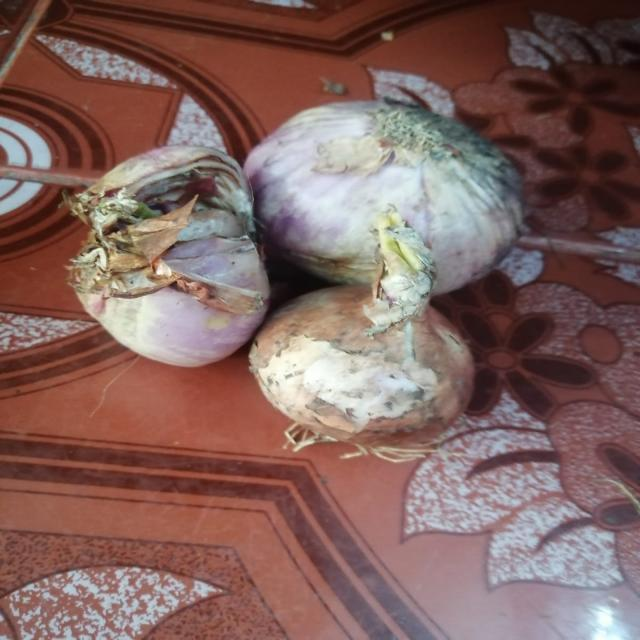rotten: (392, 104, 502, 188), (97, 206, 249, 247)
sprouting: (369, 224, 436, 288)
